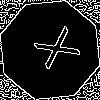X: (25, 25, 81, 77)
